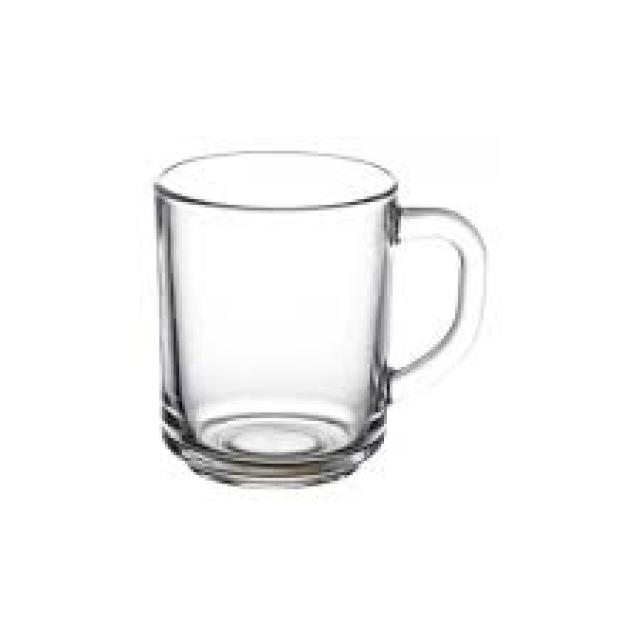Dry Waste: (148, 152, 490, 491)
